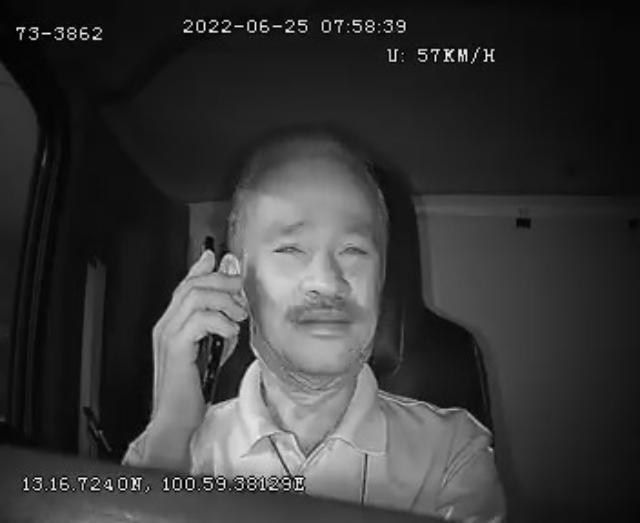PhoneUse: (190, 234, 230, 406)
SafeDriving: (330, 228, 377, 266), (266, 228, 312, 264)
